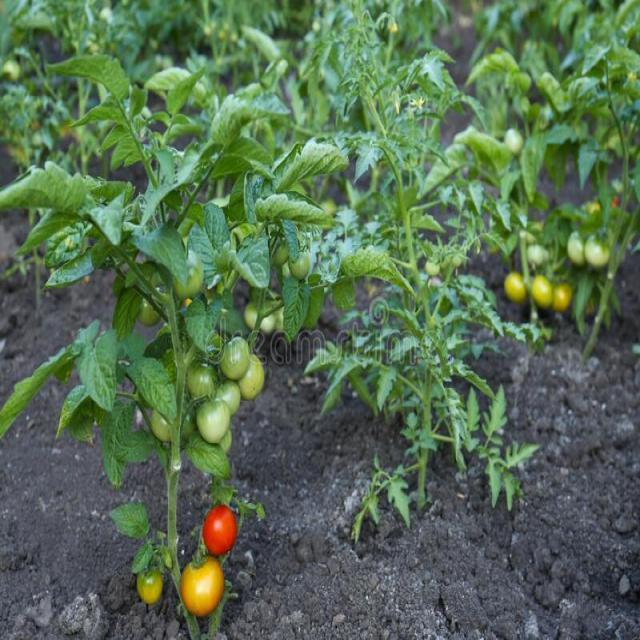tomato: (0, 54, 348, 638), (299, 4, 542, 539), (422, 47, 566, 322), (539, 0, 640, 360)
